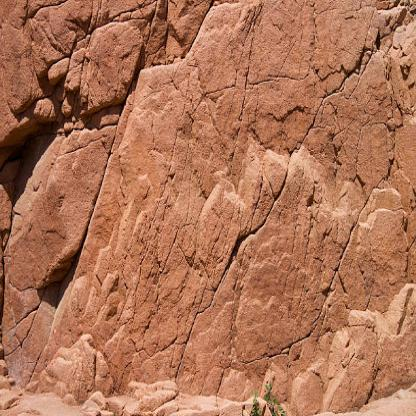Sedimentary_Sandstone: (66, 60, 177, 394), (6, 109, 115, 298), (182, 2, 284, 136), (184, 149, 300, 259), (197, 267, 298, 387), (336, 45, 402, 185), (60, 19, 143, 124), (336, 200, 414, 296), (323, 298, 378, 409)
